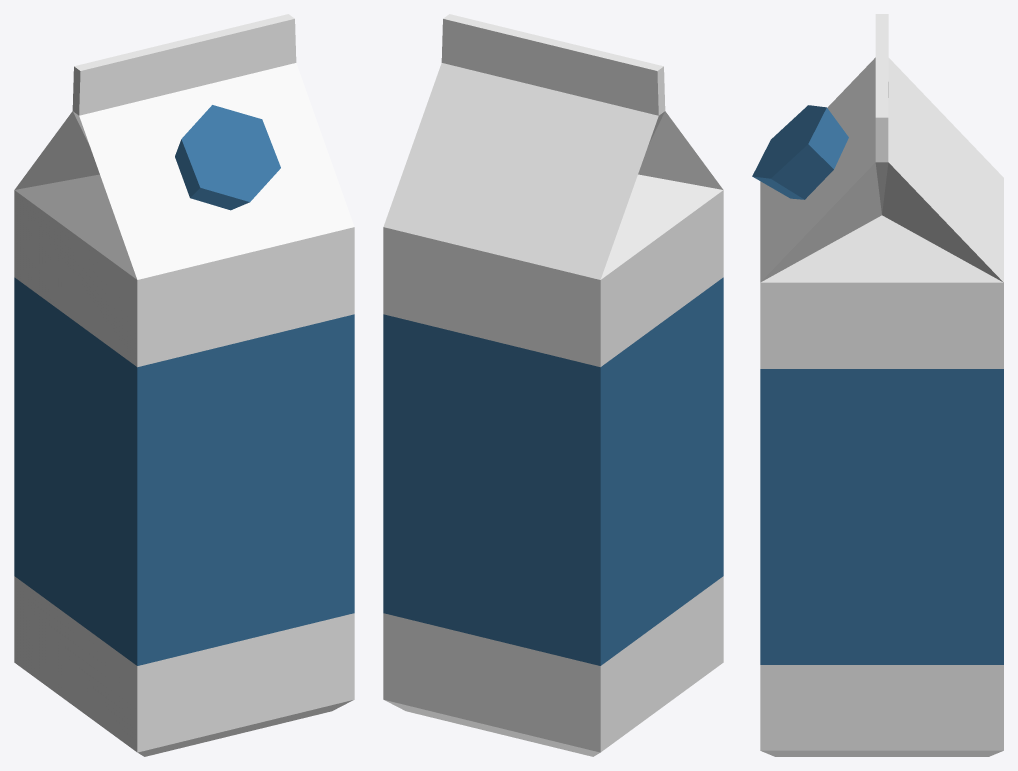
File: food_milk-box.fbx
3 renders of one model, left to right at view 1: azimuth 30°, elevation 25°; view 2: azimuth 150°, elevation 25°; view 3: azimuth 270°, elevation 25°, orthographic.
Visible parts, largest first — view 1: food_milk_box; view 2: food_milk_box; view 3: food_milk_box.
Boxes of the visible parts, x1,y1,x2,y2 form: food_milk_box: [14, 14, 354, 756]; food_milk_box: [383, 14, 723, 756]; food_milk_box: [752, 14, 1003, 756].
Bounding box in the file's own units: 69.65 × 200 × 70.6.
